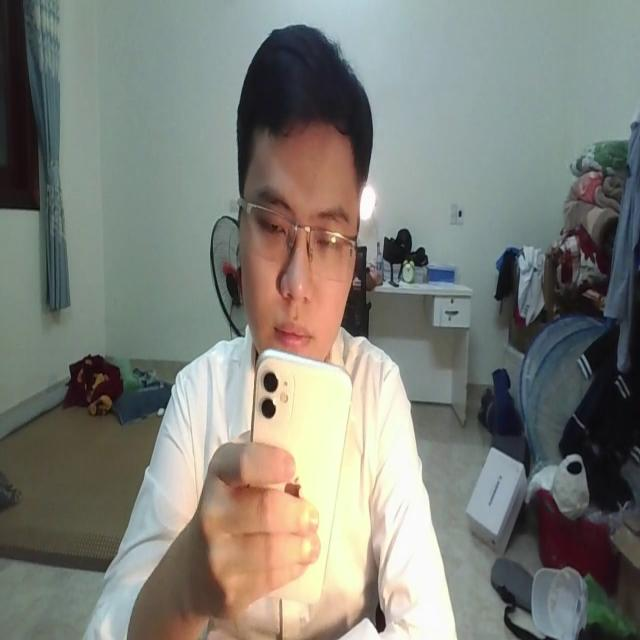phone: (243, 339, 353, 610)
student: (83, 15, 458, 640)
